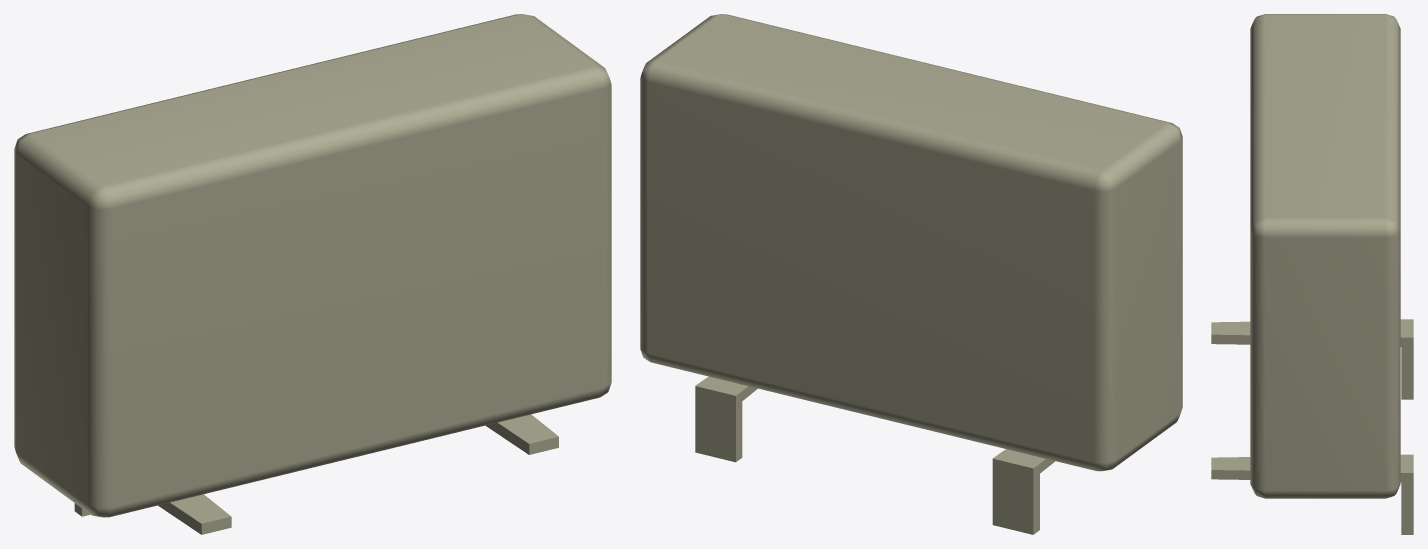
Rendered from SM_ACunit_01.fbx.
3 views of the same model, side by side, from view 1: azimuth 30°, elevation 25°; view 2: azimuth 150°, elevation 25°; view 3: azimuth 270°, elevation 25° (orthographic). The views are drawn at different scales.
Visible parts, largest first — view 1: SM_ACunit_01, pCube2, pCube3; view 2: SM_ACunit_01, pCube2, pCube3; view 3: SM_ACunit_01, pCube2, pCube3.
Boxes of the visible parts, left/top/right/bottom form: SM_ACunit_01: left=14, top=14, right=611, bottom=517; pCube2: left=74, top=494, right=231, bottom=534; pCube3: left=485, top=414, right=558, bottom=454; SM_ACunit_01: left=640, top=14, right=1182, bottom=471; pCube2: left=992, top=449, right=1055, bottom=534; pCube3: left=695, top=376, right=757, bottom=462; SM_ACunit_01: left=1250, top=14, right=1400, bottom=498; pCube2: left=1211, top=319, right=1413, bottom=399; pCube3: left=1211, top=454, right=1413, bottom=534.
Size of the model in its own units: 178 by 132 by 70.43.
